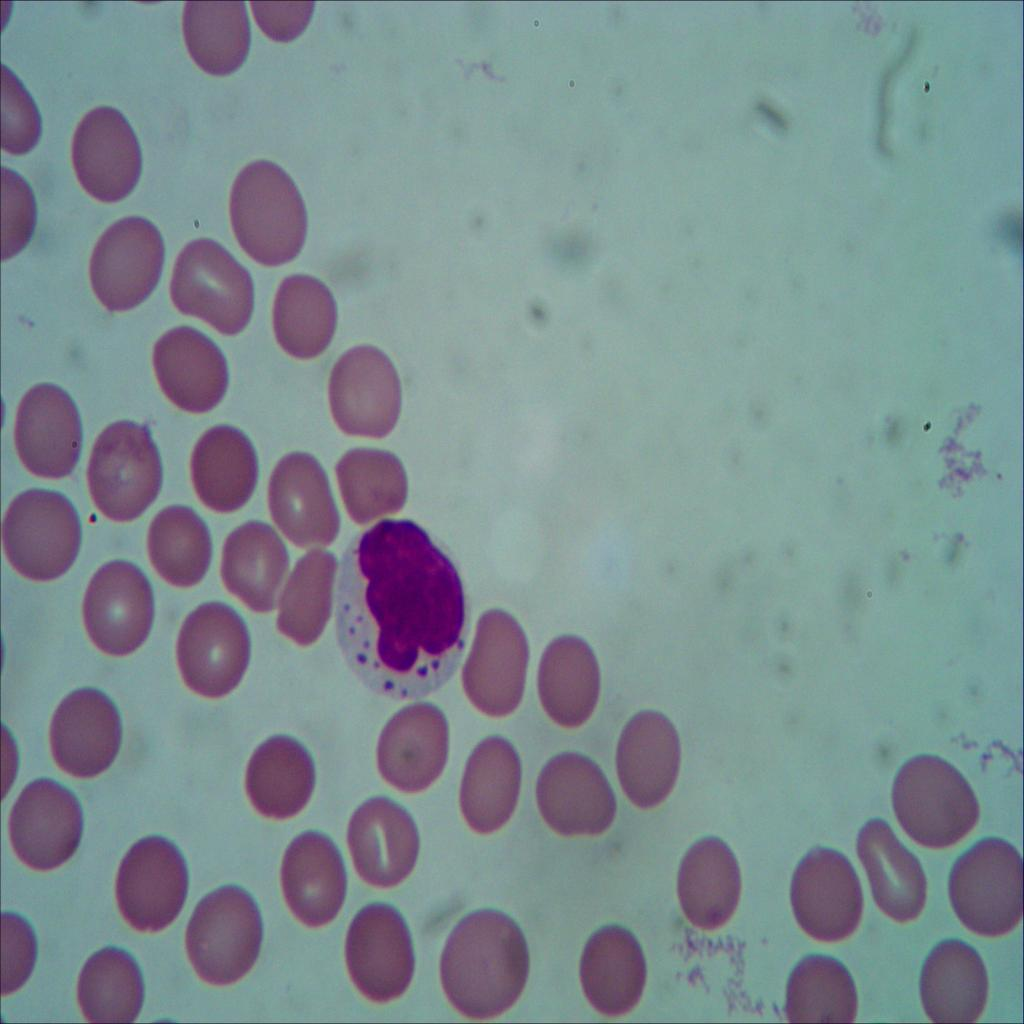Eritrosit: (423, 902, 536, 1024), (63, 200, 170, 318), (32, 670, 130, 788), (850, 809, 937, 939), (888, 739, 982, 856), (334, 778, 428, 894), (166, 226, 263, 338), (226, 146, 317, 263), (183, 885, 278, 994), (567, 910, 657, 1024), (453, 602, 537, 724), (783, 834, 874, 945), (232, 720, 326, 826), (1, 374, 85, 490), (64, 95, 148, 211), (368, 690, 453, 798), (111, 831, 195, 939), (532, 740, 622, 840), (946, 836, 1024, 948), (84, 426, 171, 526), (612, 704, 691, 814), (0, 484, 88, 582), (2, 777, 94, 870), (265, 270, 346, 374), (266, 450, 348, 550), (341, 899, 421, 1001), (184, 412, 264, 514), (77, 556, 157, 655), (148, 327, 241, 412), (324, 344, 408, 438), (277, 828, 355, 928), (178, 0, 267, 86), (172, 606, 254, 698), (272, 541, 341, 650), (456, 731, 524, 840), (915, 930, 993, 1024), (136, 506, 222, 591), (531, 633, 603, 734), (65, 932, 144, 1024), (673, 839, 746, 937), (772, 948, 864, 1024), (330, 447, 418, 523), (221, 516, 291, 608)
Limfoblast: (333, 512, 474, 707)
